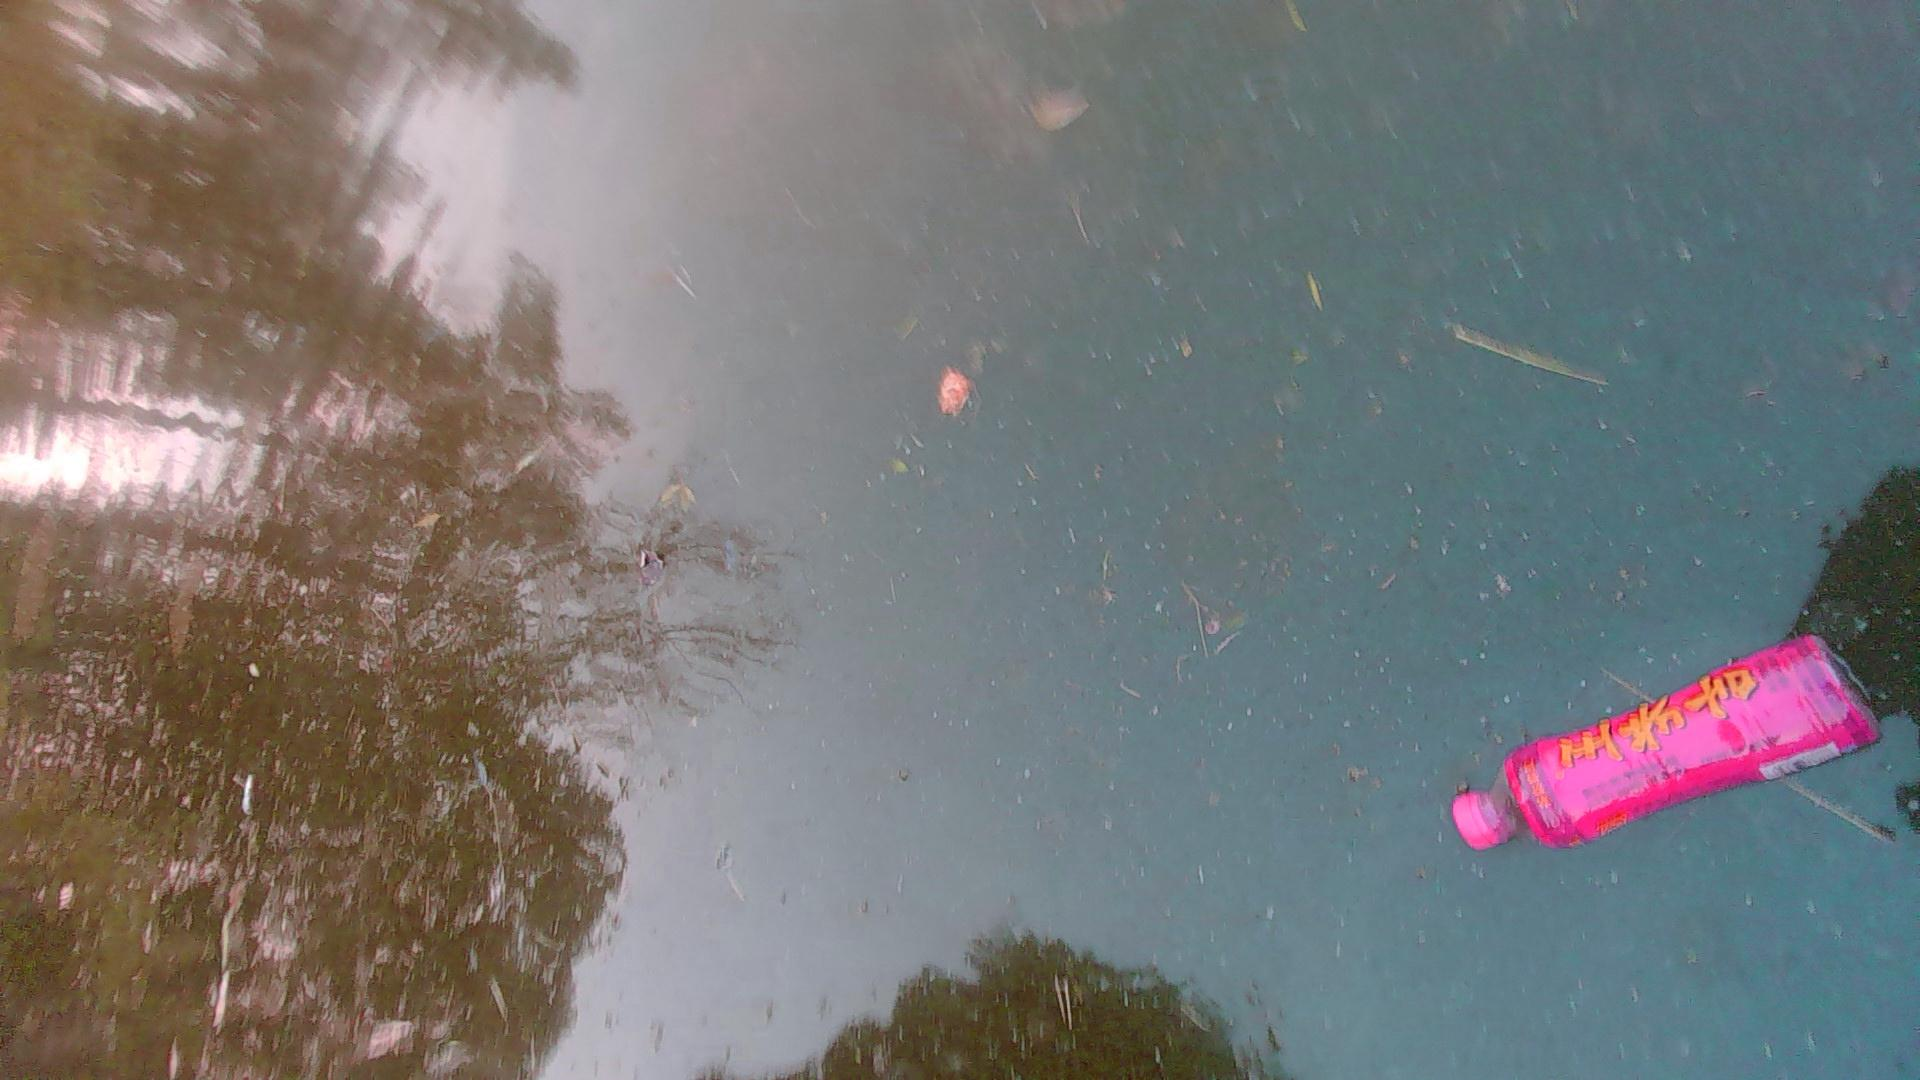Plastic: (1444, 620, 1888, 855)
